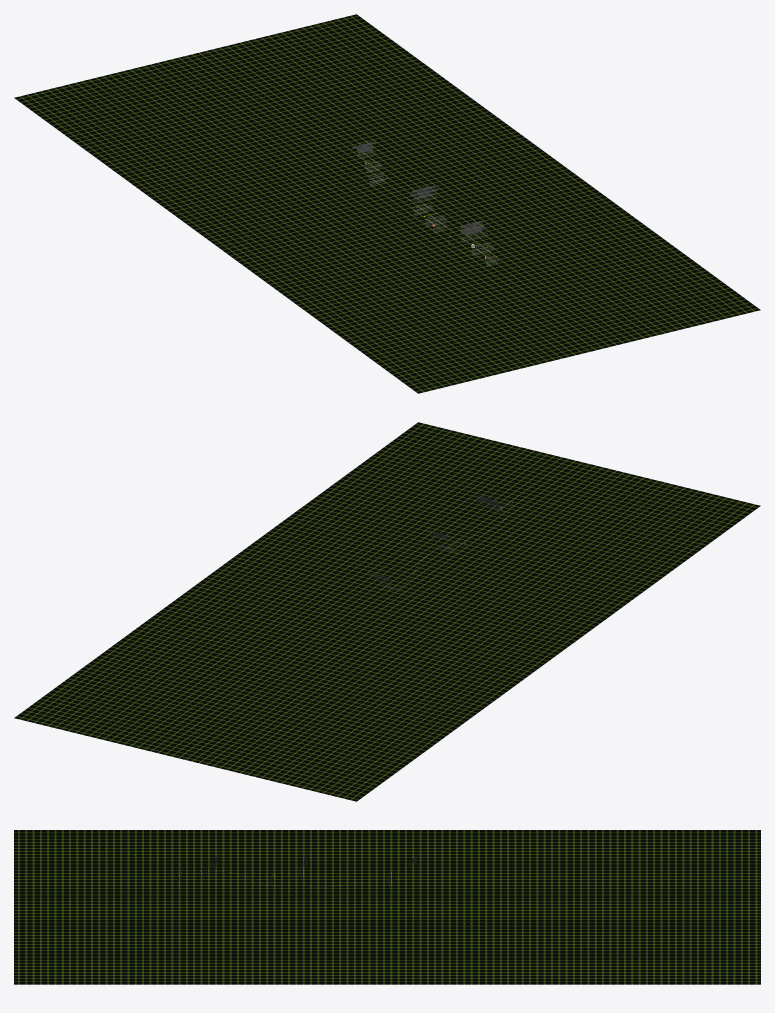
The model's file is journey-mobile.glb.
3 views of the same model, one above another, from view 1: azimuth 30°, elevation 25°; view 2: azimuth 150°, elevation 25°; view 3: azimuth 270°, elevation 25° (orthographic). The views are drawn at different scales.
Visible parts, largest first — view 1: gridtile; view 2: gridtile; view 3: gridtile.
Part boxes in pixels (x1,y1,x2,y2): gridtile: (14, 14, 760, 393); gridtile: (14, 422, 760, 801); gridtile: (14, 830, 760, 984).
Bounding box in the file's own units: 55.91 × 6.63 × 90.82.
5 materials, 5 textured.
